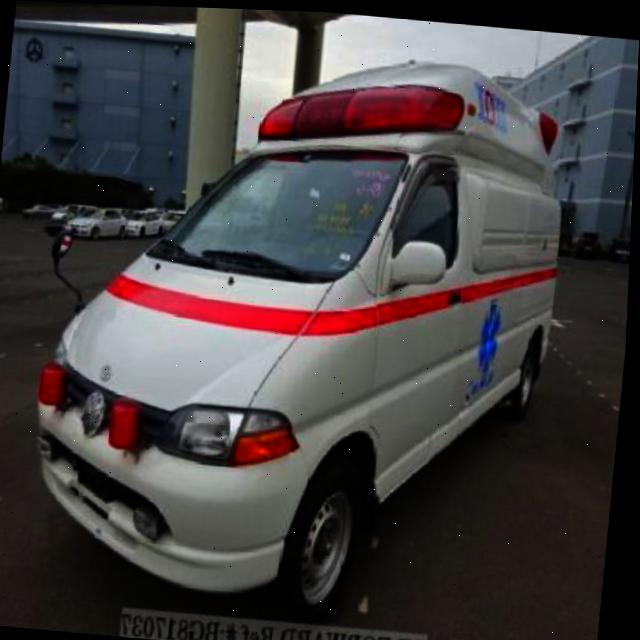emergency: (19, 25, 581, 634)
